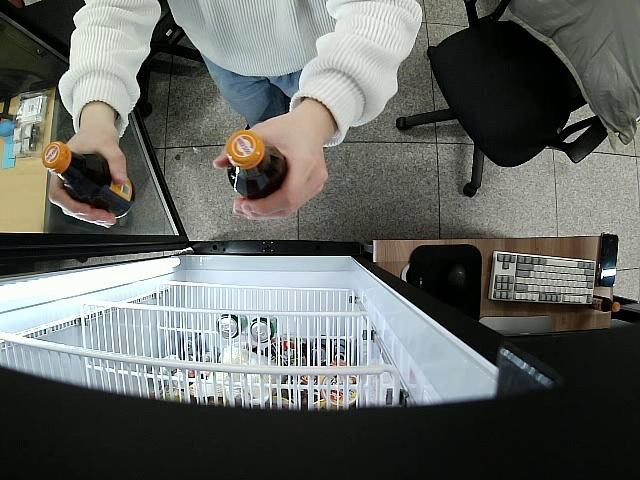00_hand: (212, 106, 330, 220), (46, 127, 131, 230)
17_vita500: (41, 140, 137, 218), (225, 130, 290, 201)
